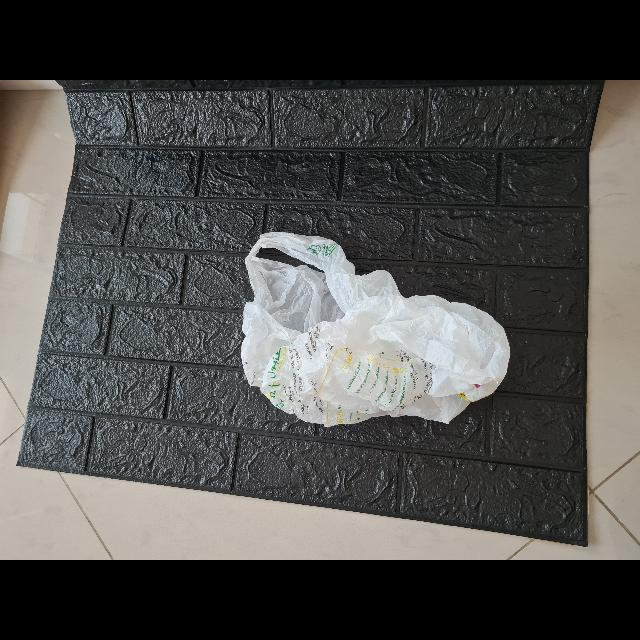plastic_bag: (238, 229, 514, 429)
